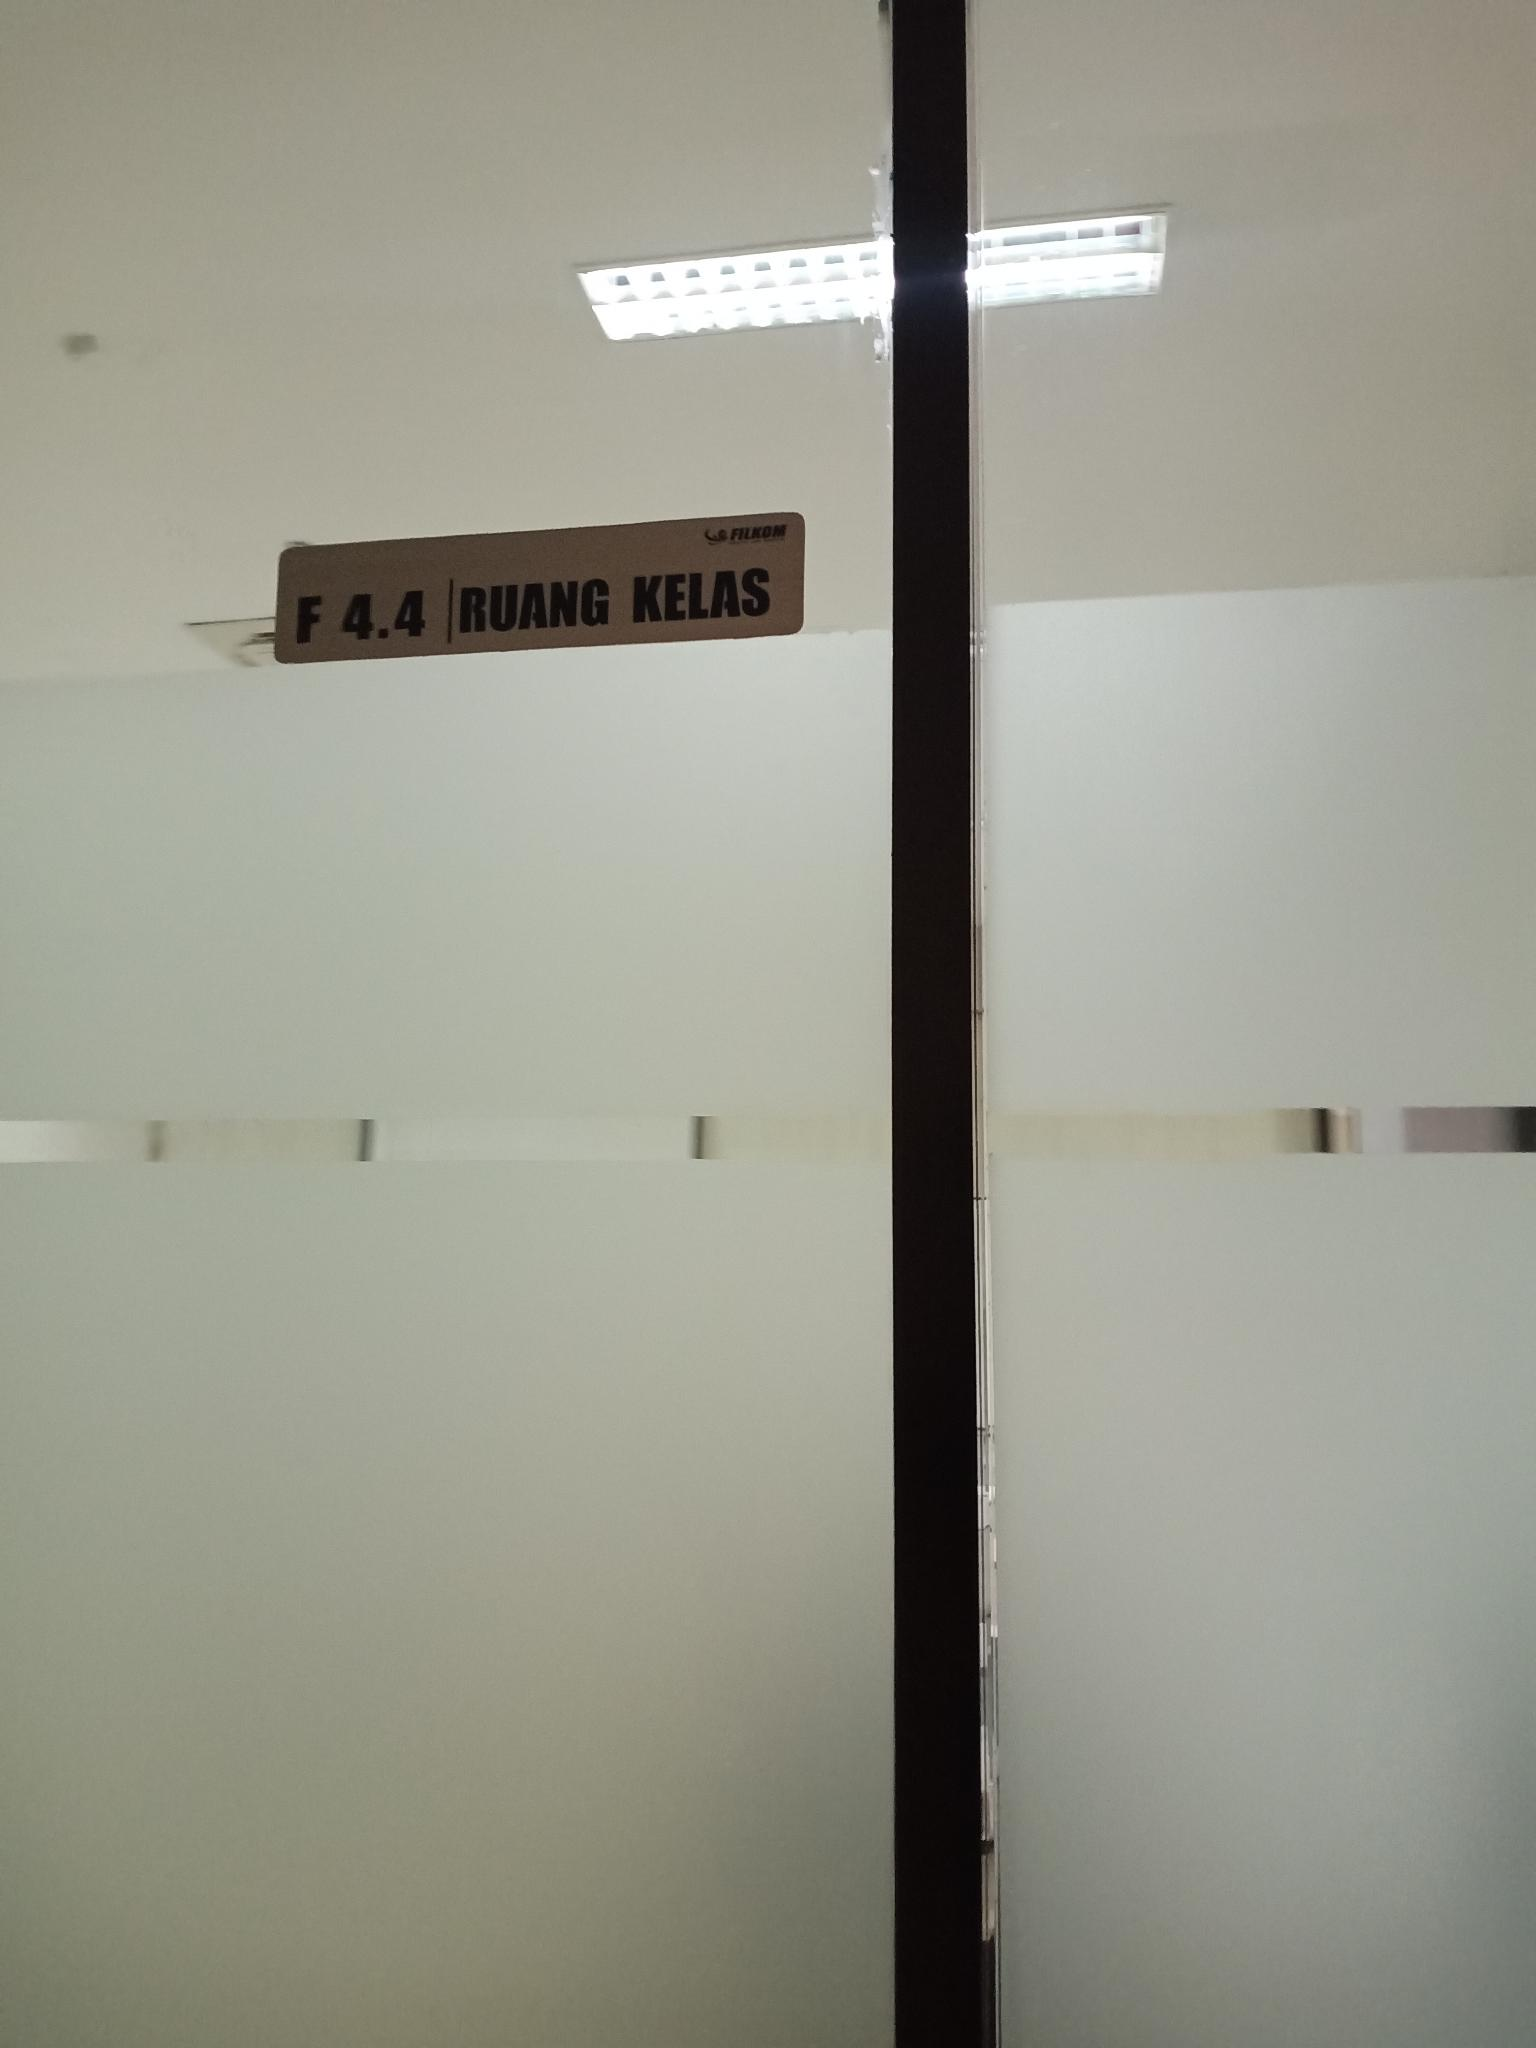plate: (271, 511, 807, 668)
